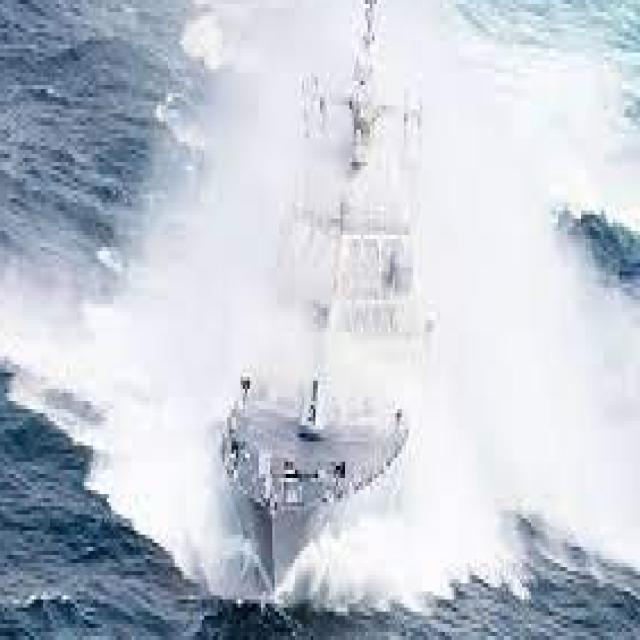navalvessels: (230, 0, 436, 595)
